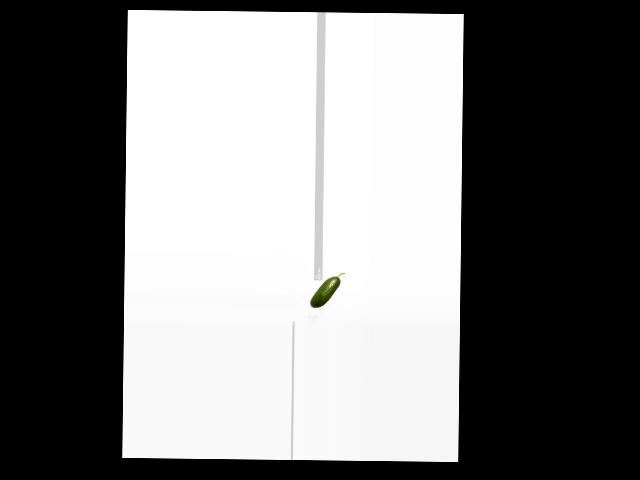cucumber: (309, 271, 344, 307)
